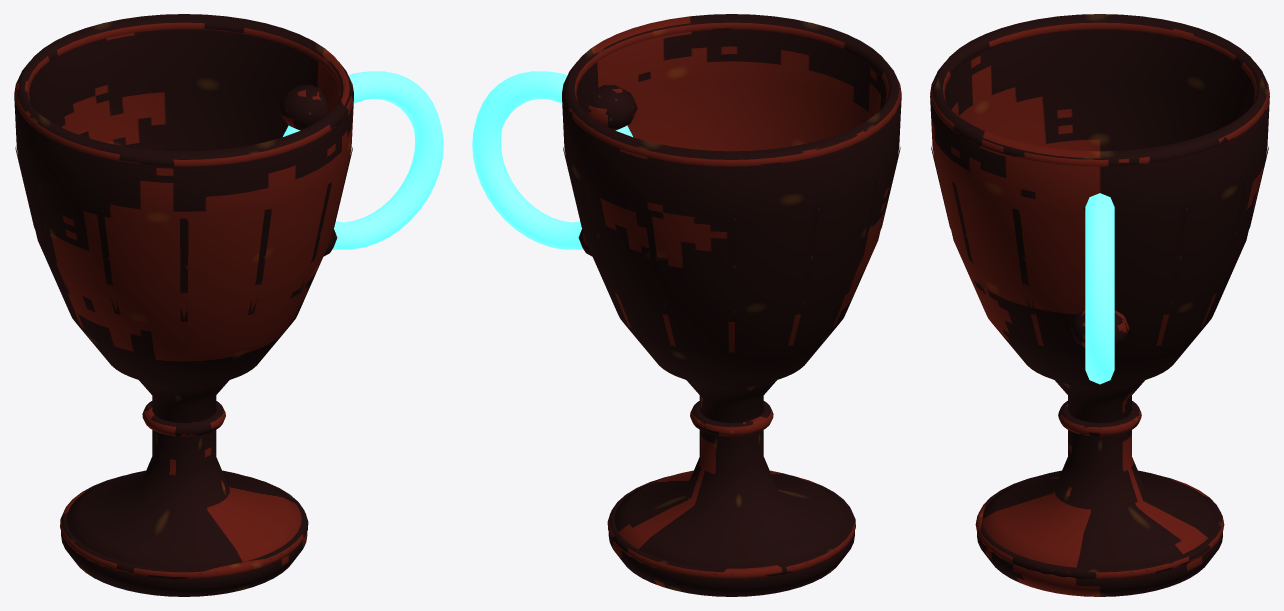
The model's file is cup_pattern_cinnabar.fbx.
3 views of the same model, side by side, from view 1: azimuth 30°, elevation 25°; view 2: azimuth 150°, elevation 25°; view 3: azimuth 270°, elevation 25° (orthographic).
Parts seen in each view (by area): view 1: TH_S_Cup_HollowBody, TH_S_Cup_Handle, TH_S_Cup_Rim, TH_S_Cup_FootBand, TH_S_Cup_HandleMount.001, TH_S_Cup_StemBand, TH_S_Cup_ChasedFlute.008, TH_S_Cup_ChasedFlute.007, TH_S_Cup_ChasedFlute.009; view 2: TH_S_Cup_HollowBody, TH_S_Cup_Handle, TH_S_Cup_Rim, TH_S_Cup_FootBand, TH_S_Cup_HandleMount.001, TH_S_Cup_StemBand, TH_S_Cup_ChasedFlute.004, TH_S_Cup_ChasedFlute.003, TH_S_Cup_ChasedFlute.005; view 3: TH_S_Cup_HollowBody, TH_S_Cup_Rim, TH_S_Cup_Handle, TH_S_Cup_FootBand, TH_S_Cup_StemBand, TH_S_Cup_HandleMount, TH_S_Cup_ChasedFlute.001, TH_S_Cup_ChasedFlute.011, TH_S_Cup_ChasedFlute.002, TH_S_Cup_ChasedFlute.010.
Boxes of the visible parts, x1,y1,x2,y2 form: TH_S_Cup_HollowBody: (14,14,353,596); TH_S_Cup_Handle: (283,71,443,249); TH_S_Cup_Rim: (14,21,353,166); TH_S_Cup_FootBand: (60,475,308,579); TH_S_Cup_HandleMount.001: (278,84,327,130); TH_S_Cup_StemBand: (142,401,225,436); TH_S_Cup_ChasedFlute.008: (180,218,188,352); TH_S_Cup_ChasedFlute.007: (96,208,127,346); TH_S_Cup_ChasedFlute.009: (240,208,271,346); TH_S_Cup_HollowBody: (562,14,901,596); TH_S_Cup_Handle: (472,71,632,249); TH_S_Cup_Rim: (562,21,901,166); TH_S_Cup_FootBand: (607,475,855,579); TH_S_Cup_HandleMount.001: (588,84,637,130); TH_S_Cup_StemBand: (690,401,773,436); TH_S_Cup_ChasedFlute.004: (727,218,735,352); TH_S_Cup_ChasedFlute.003: (644,208,675,346); TH_S_Cup_ChasedFlute.005: (788,208,819,346); TH_S_Cup_HollowBody: (930,14,1269,596); TH_S_Cup_Rim: (930,21,1269,166); TH_S_Cup_Handle: (1085,193,1114,384); TH_S_Cup_FootBand: (975,476,1224,579); TH_S_Cup_StemBand: (1058,401,1141,436); TH_S_Cup_HandleMount: (1070,310,1129,347); TH_S_Cup_ChasedFlute.001: (1156,208,1187,346); TH_S_Cup_ChasedFlute.011: (1012,208,1043,346); TH_S_Cup_ChasedFlute.002: (1200,182,1247,328); TH_S_Cup_ChasedFlute.010: (952,182,999,328).
Size of the model in its own units: 0.19 by 0.209 by 0.138.
Materials: 2 (1 with a texture image).
